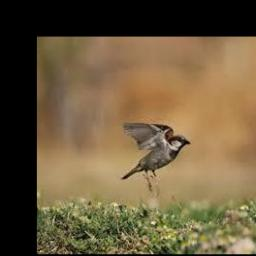Sparrow: (120, 122, 190, 196)
